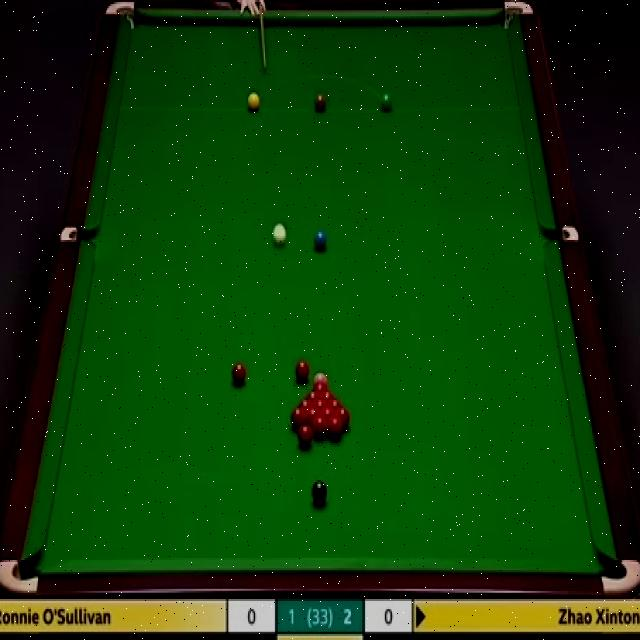black-ball: (311, 481, 328, 505)
blue-ball: (313, 229, 328, 252)
brown-ball: (314, 93, 327, 113)
green-ball: (380, 92, 392, 112)
pink-ball: (314, 371, 328, 384)
red-ball: (290, 408, 306, 432), (231, 362, 246, 387), (294, 361, 310, 384), (313, 416, 328, 439), (298, 425, 312, 449), (328, 417, 342, 441), (334, 408, 350, 429), (320, 408, 336, 421), (319, 391, 335, 404), (298, 400, 314, 412), (306, 408, 319, 422), (328, 399, 342, 412), (313, 400, 327, 412), (305, 391, 322, 400), (312, 383, 328, 392)
white-ball: (271, 224, 287, 245)
yellow-ball: (248, 91, 260, 113)
